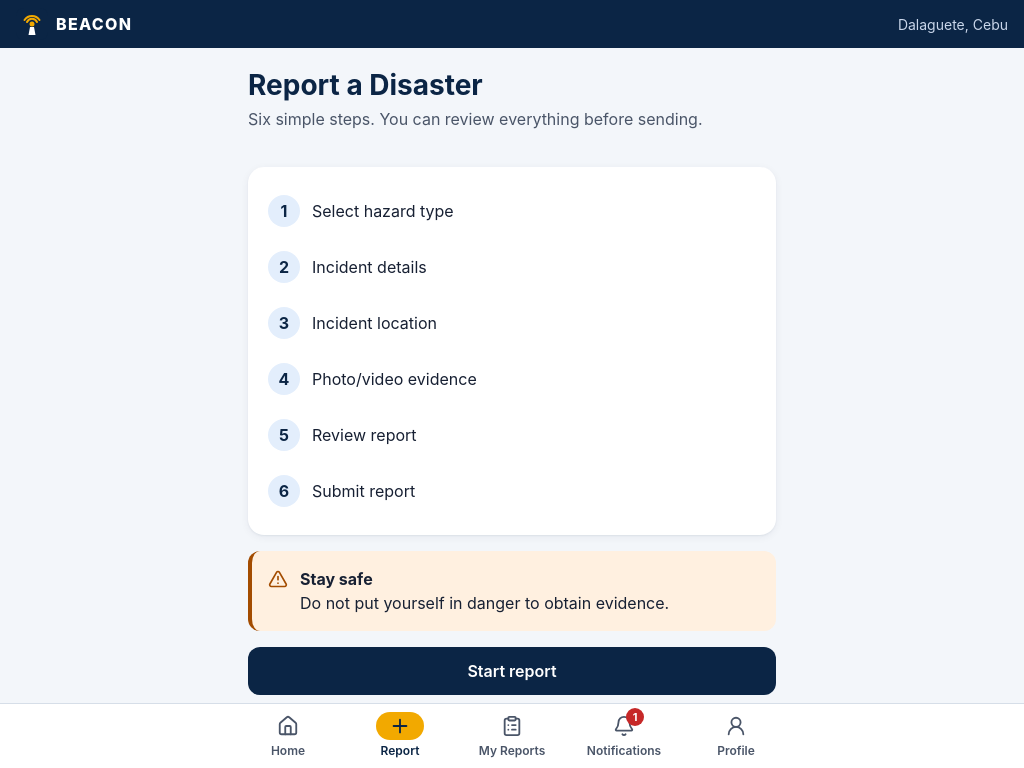
Test case: step 1: hazard › requires a hazard before continuing
The width and height of the screenshot is (1024, 768).
Click the button "Start report" at (512, 671), box [248, 647, 776, 695]
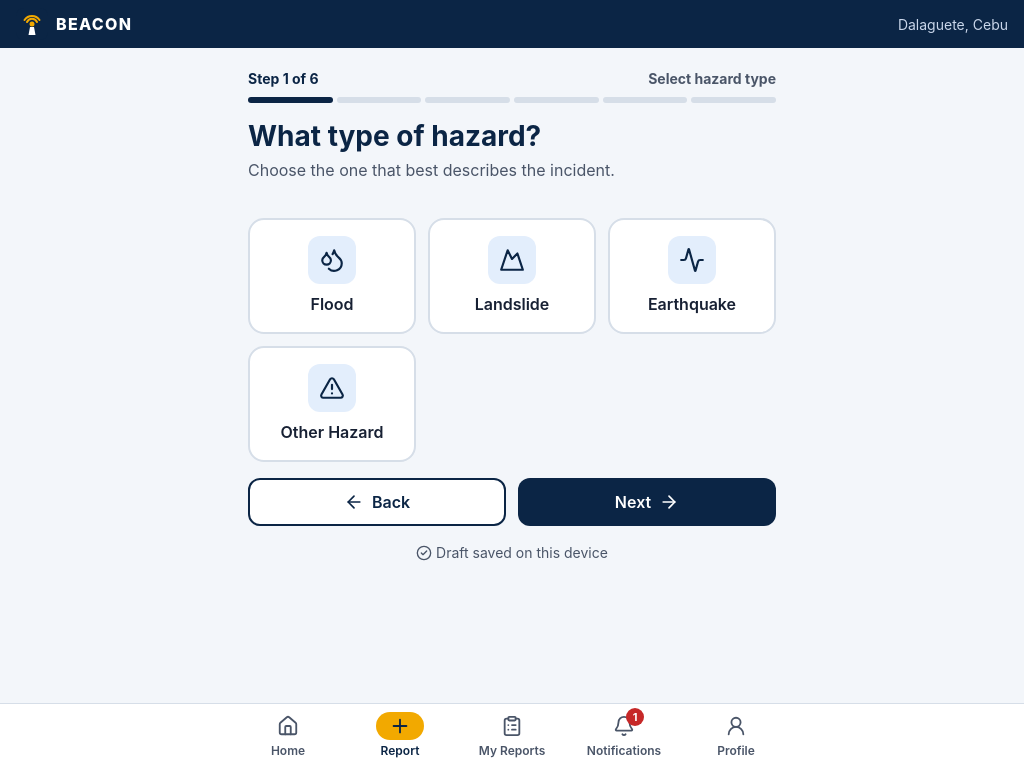
Check: the heading "What type of hazard?" is shown, box [248, 119, 541, 153]
Check: the radio button labelled "Flood" is shown, box [248, 218, 416, 334]
Click the button "Next" at (647, 502), box [518, 478, 776, 526]
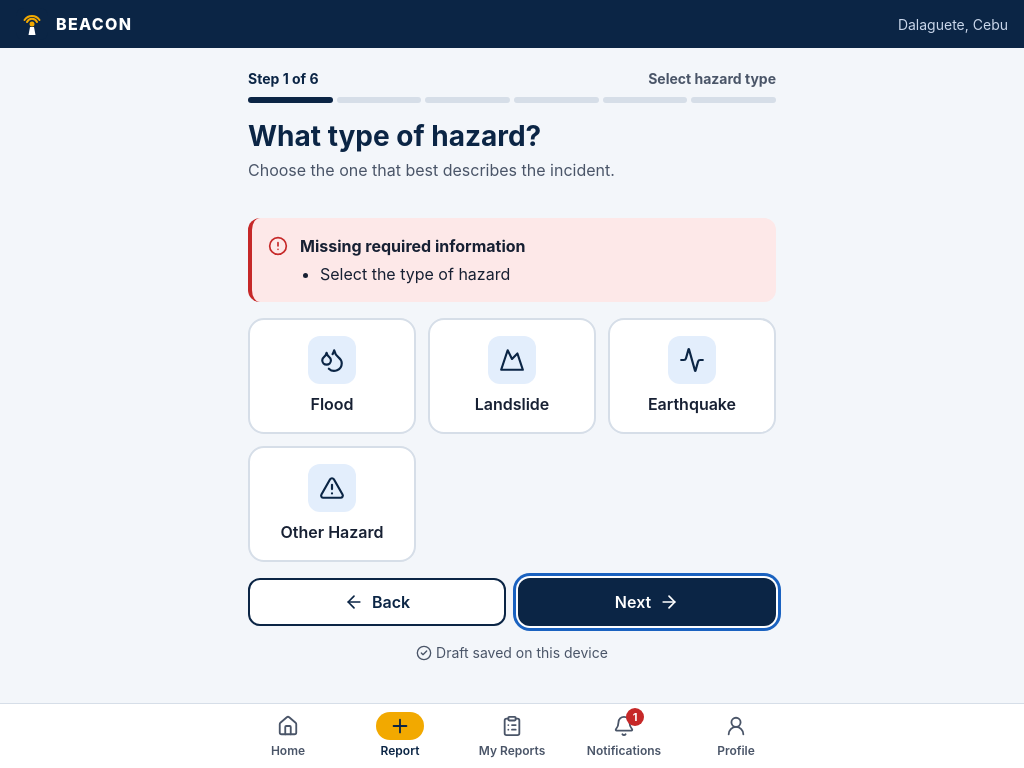
Check: the text "Missing required information" is shown, box [300, 234, 526, 258]
